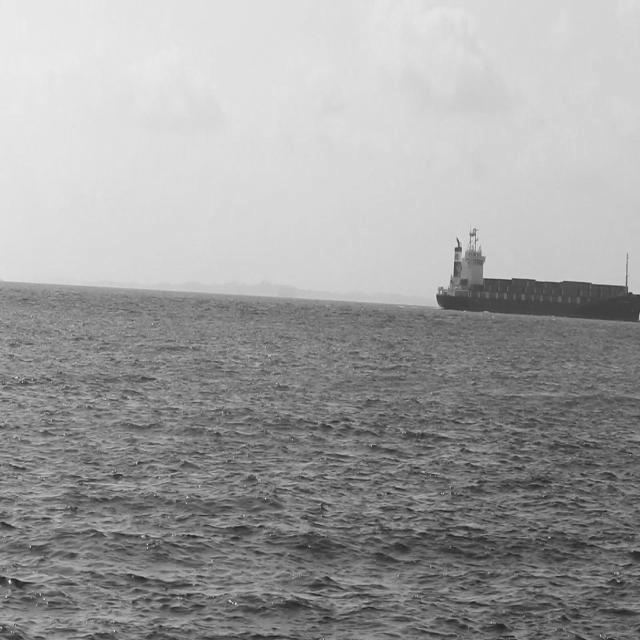ship: (434, 218, 640, 320)
